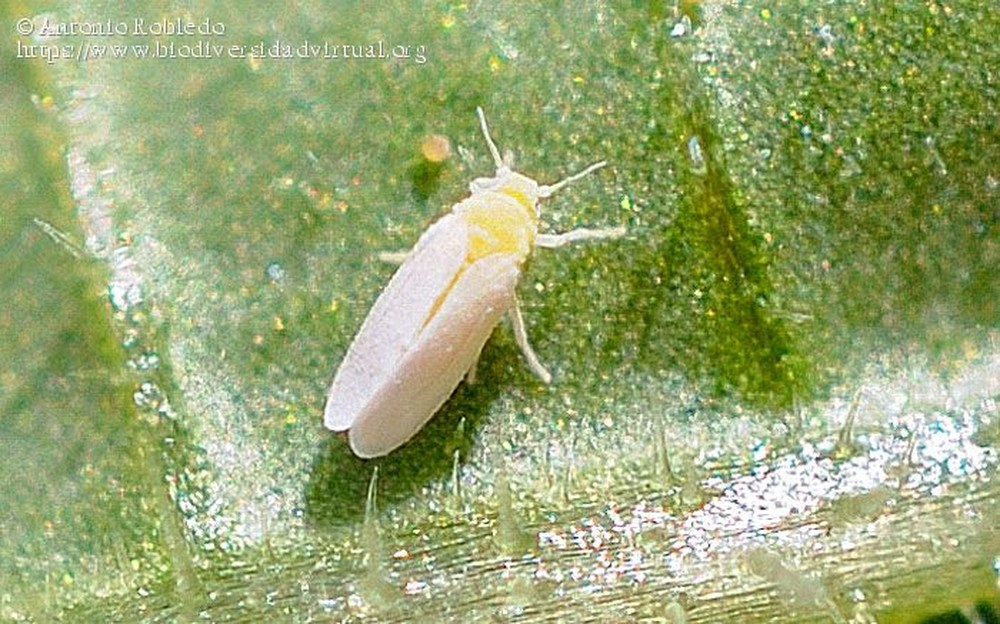Mosca Blanca: (302, 105, 634, 471)
